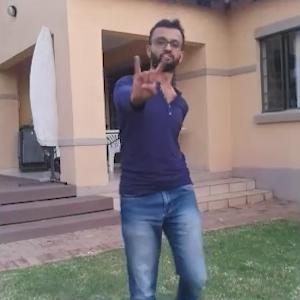takeoff-hand: (122, 42, 169, 109)
